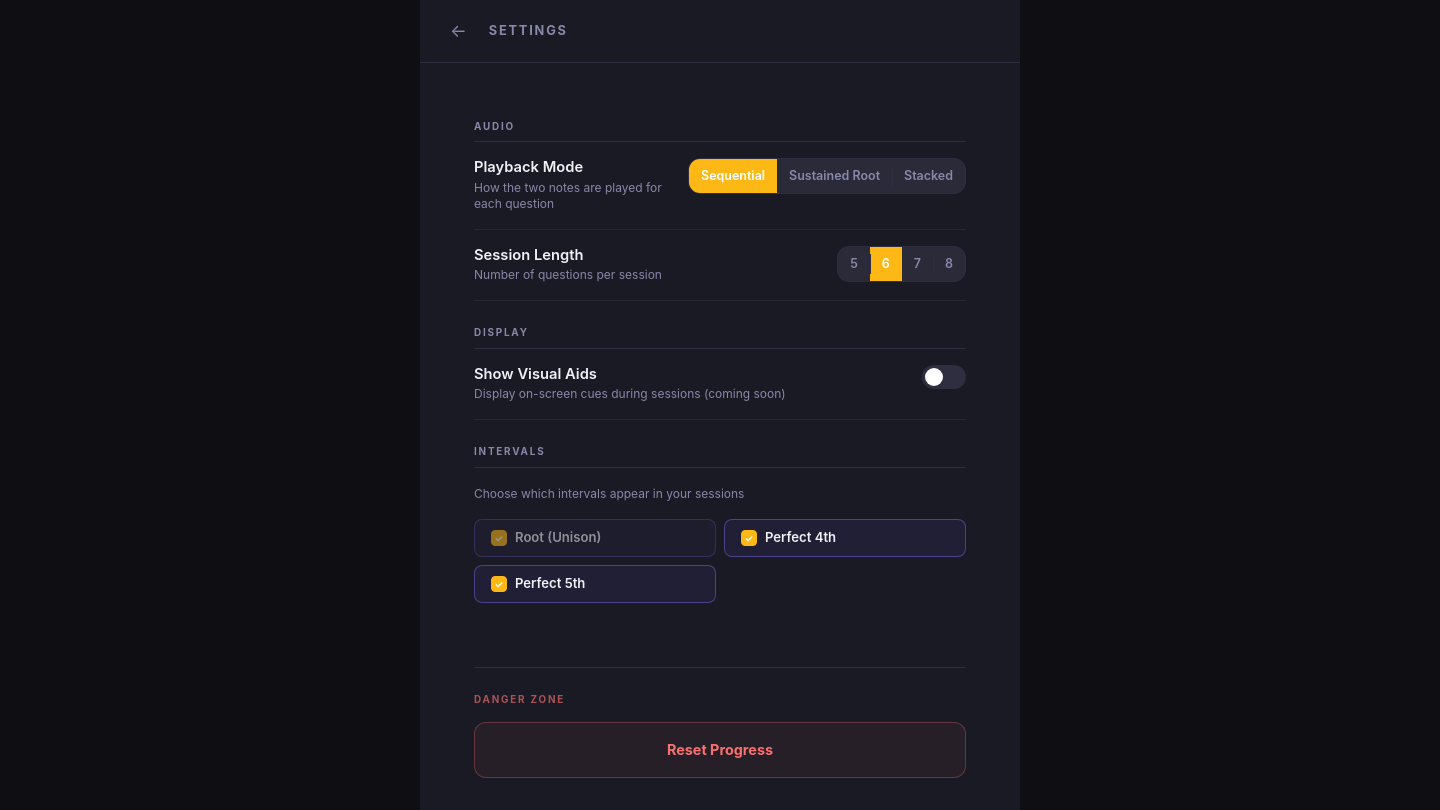
Test: reset progress › cancelling reset closes the modal
The image size is (1440, 810).
Click the button with test id "reset-btn". click: x=720, y=750
box: x1=474 y1=722 x2=966 y2=778
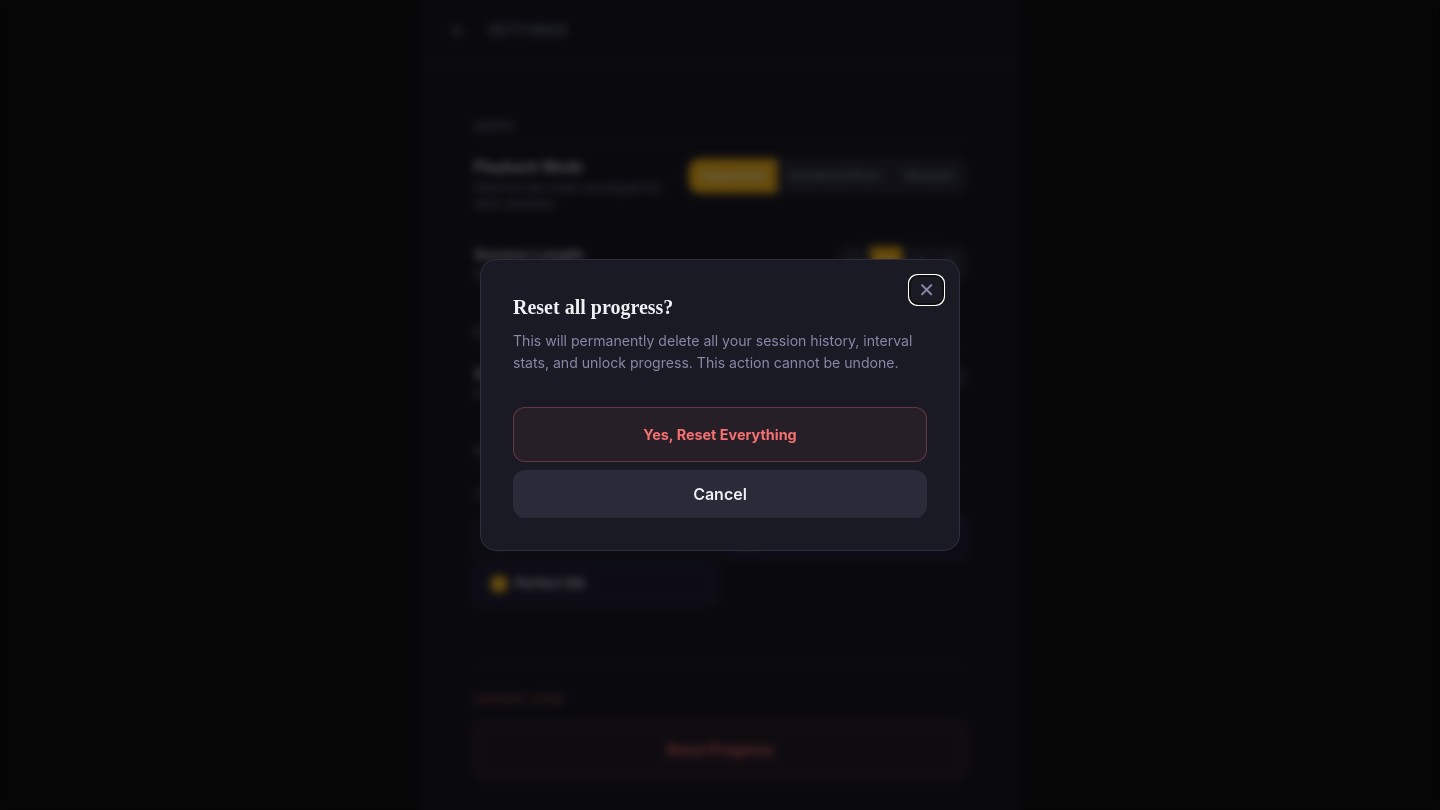
Click the button "Cancel". click: x=720, y=494
box: x1=513 y1=470 x2=927 y2=518
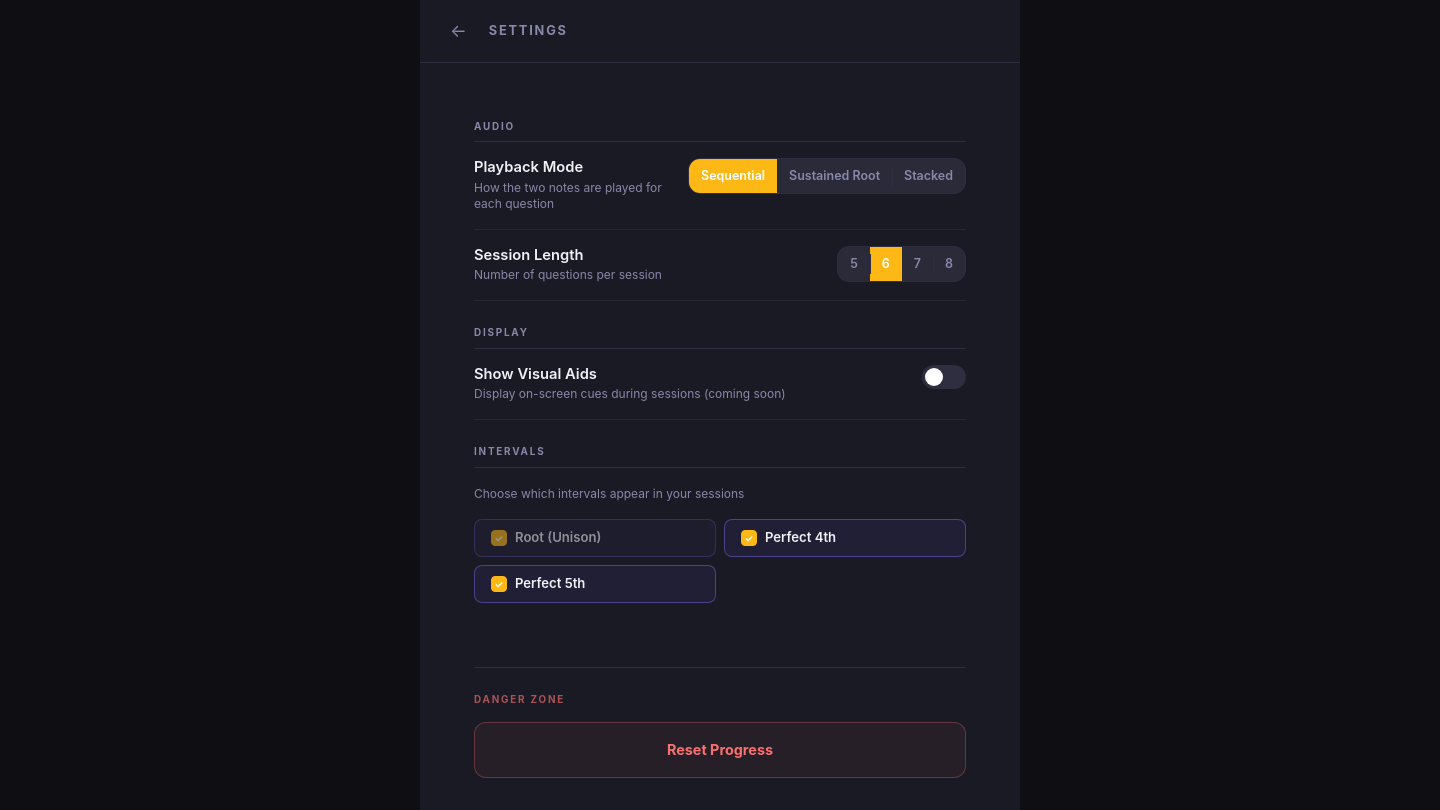
Now the text "Reset all progress" is gone
